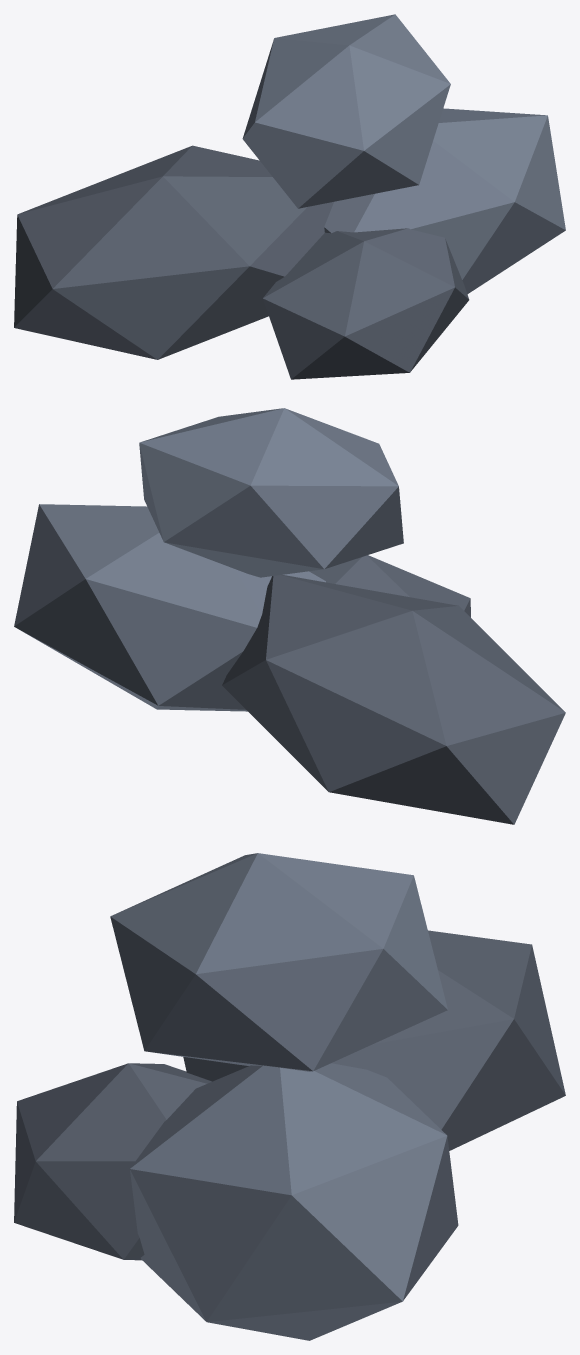
File: EXTG_NorthCairn_01.glb
3 views of the same model, one above another, from view 1: azimuth 30°, elevation 25°; view 2: azimuth 150°, elevation 25°; view 3: azimuth 270°, elevation 25° (orthographic). The views are drawn at different scales.
Parts seen in each view (by area): view 1: EXTG_NorthCairn_01; view 2: EXTG_NorthCairn_01; view 3: EXTG_NorthCairn_01.
Boxes of the visible parts, left/top/right/bottom form: EXTG_NorthCairn_01: left=14, top=14, right=565, bottom=379; EXTG_NorthCairn_01: left=14, top=408, right=565, bottom=824; EXTG_NorthCairn_01: left=14, top=853, right=565, bottom=1340.
Size of the model in its own units: 1.01 by 0.5655 by 0.6764.
